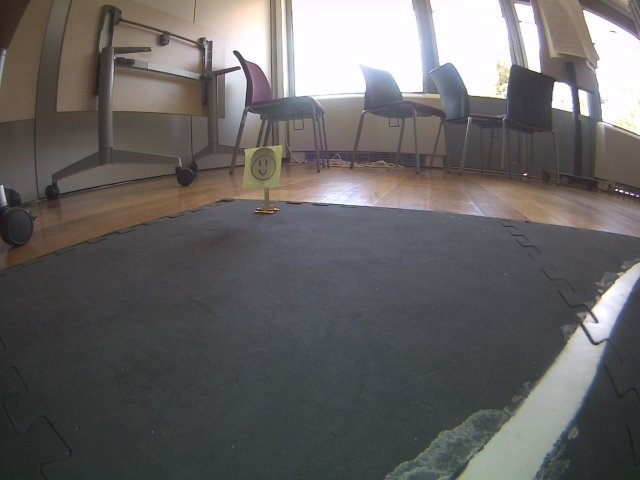Smiley: (241, 144, 285, 191)
